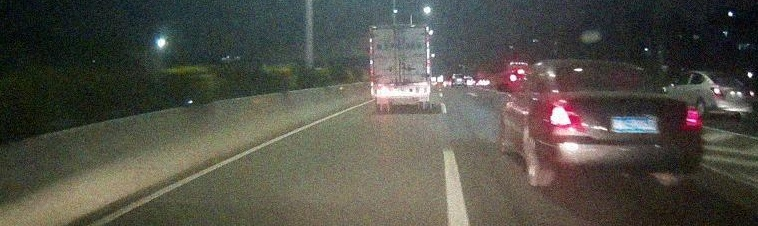L_light: (550, 105, 583, 131), (711, 87, 724, 97), (379, 87, 389, 93)
R_light: (680, 106, 702, 129), (413, 87, 424, 93), (747, 90, 754, 97)
T_light: (595, 65, 613, 70), (395, 28, 404, 32), (720, 74, 727, 77)
night-left: (547, 60, 704, 187)
night-no: (369, 24, 431, 112), (707, 72, 755, 119)
